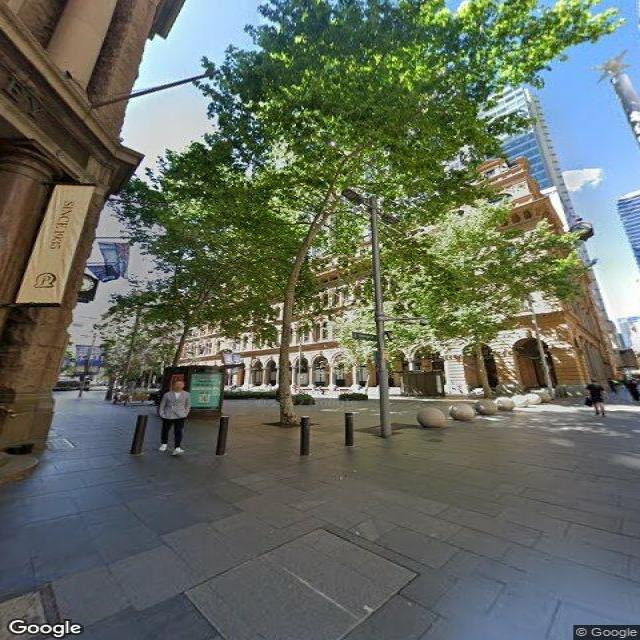steel-pole: (369, 195, 395, 440)
streetlight: (342, 186, 373, 211), (377, 205, 401, 228)
